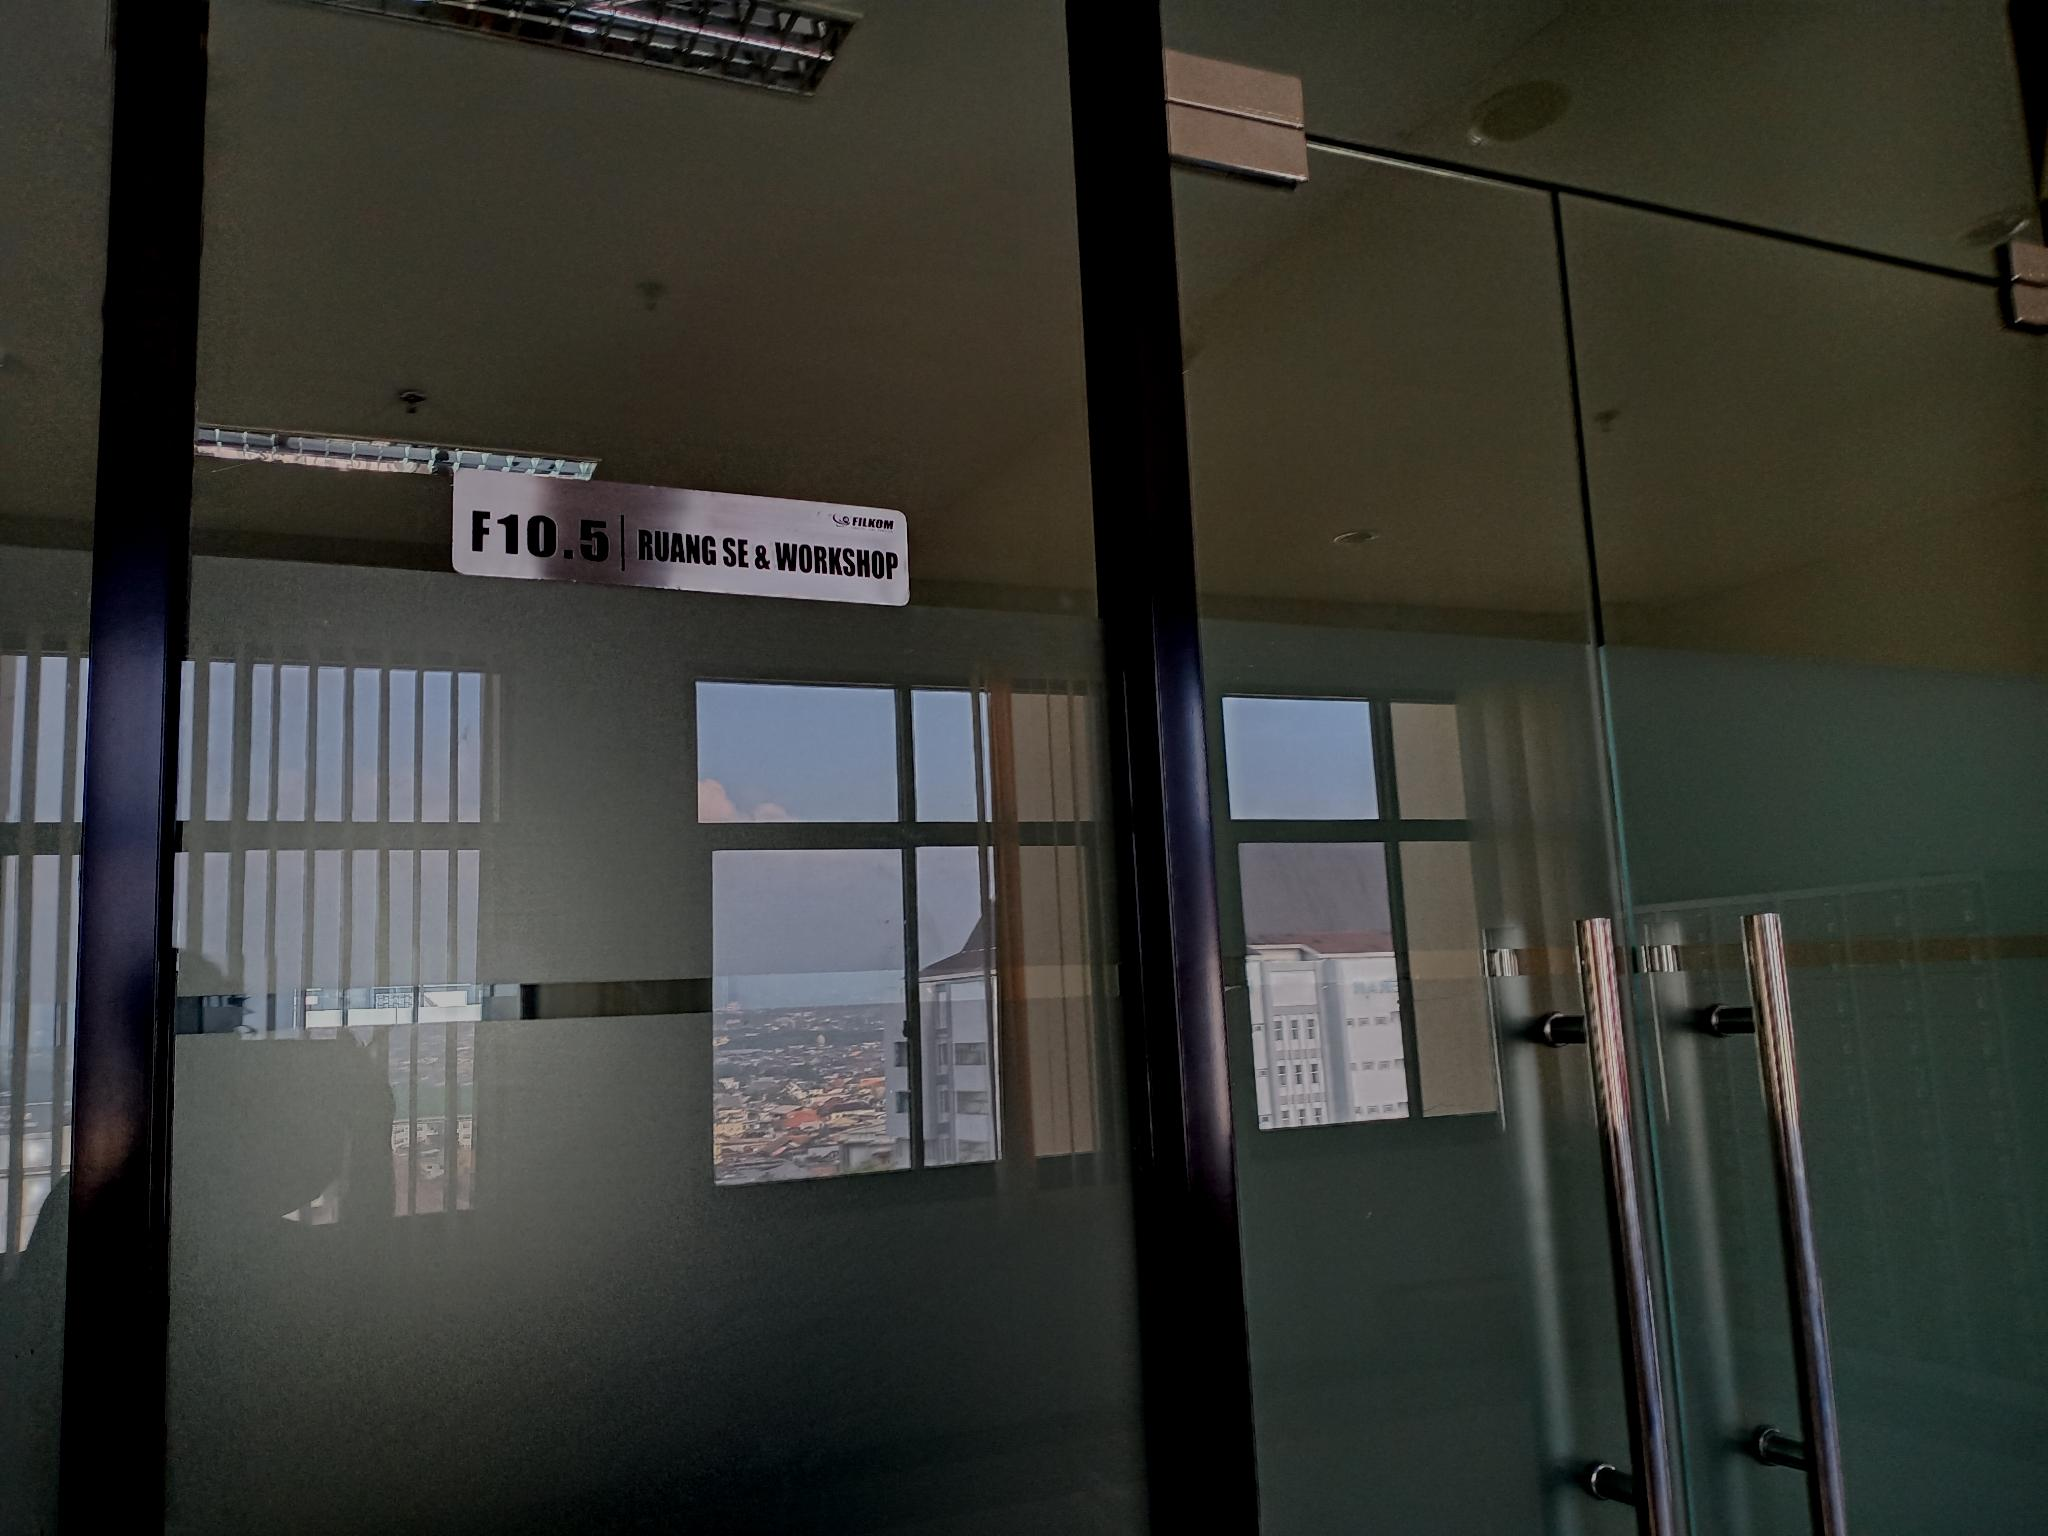plate: (450, 466, 911, 610)
